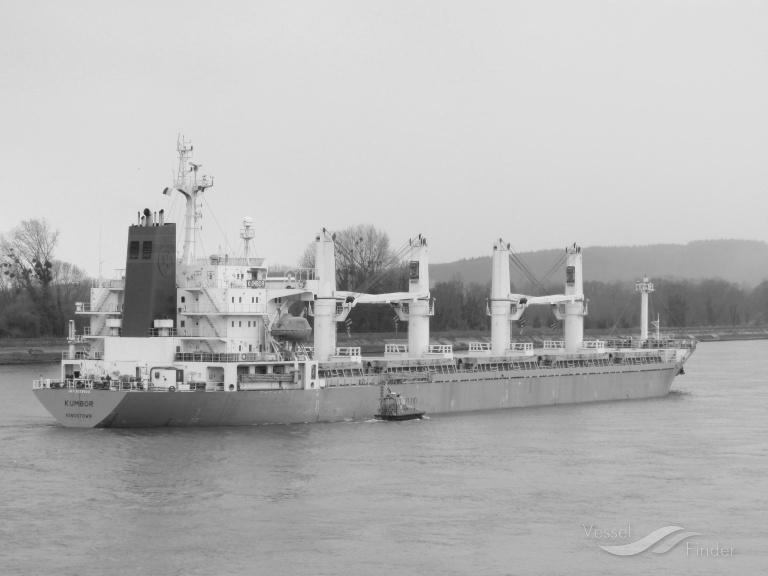OCR: (60, 395, 96, 423)
